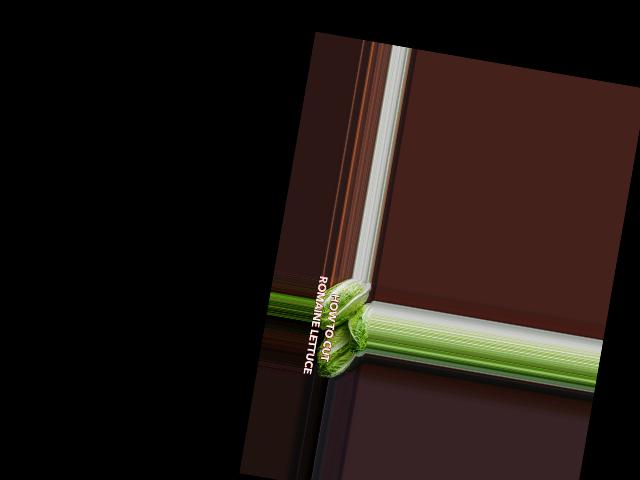lettuce: (307, 313, 365, 384)
